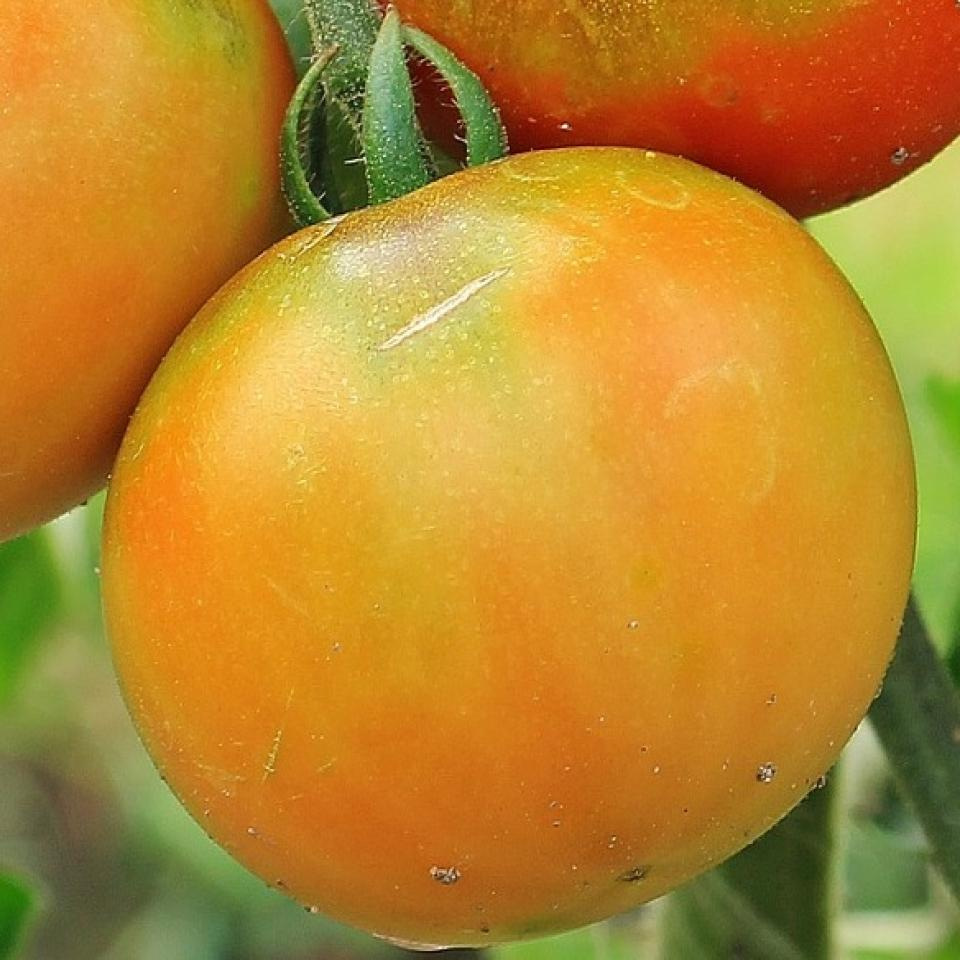Spotted wilt Virus: (104, 146, 917, 953)
